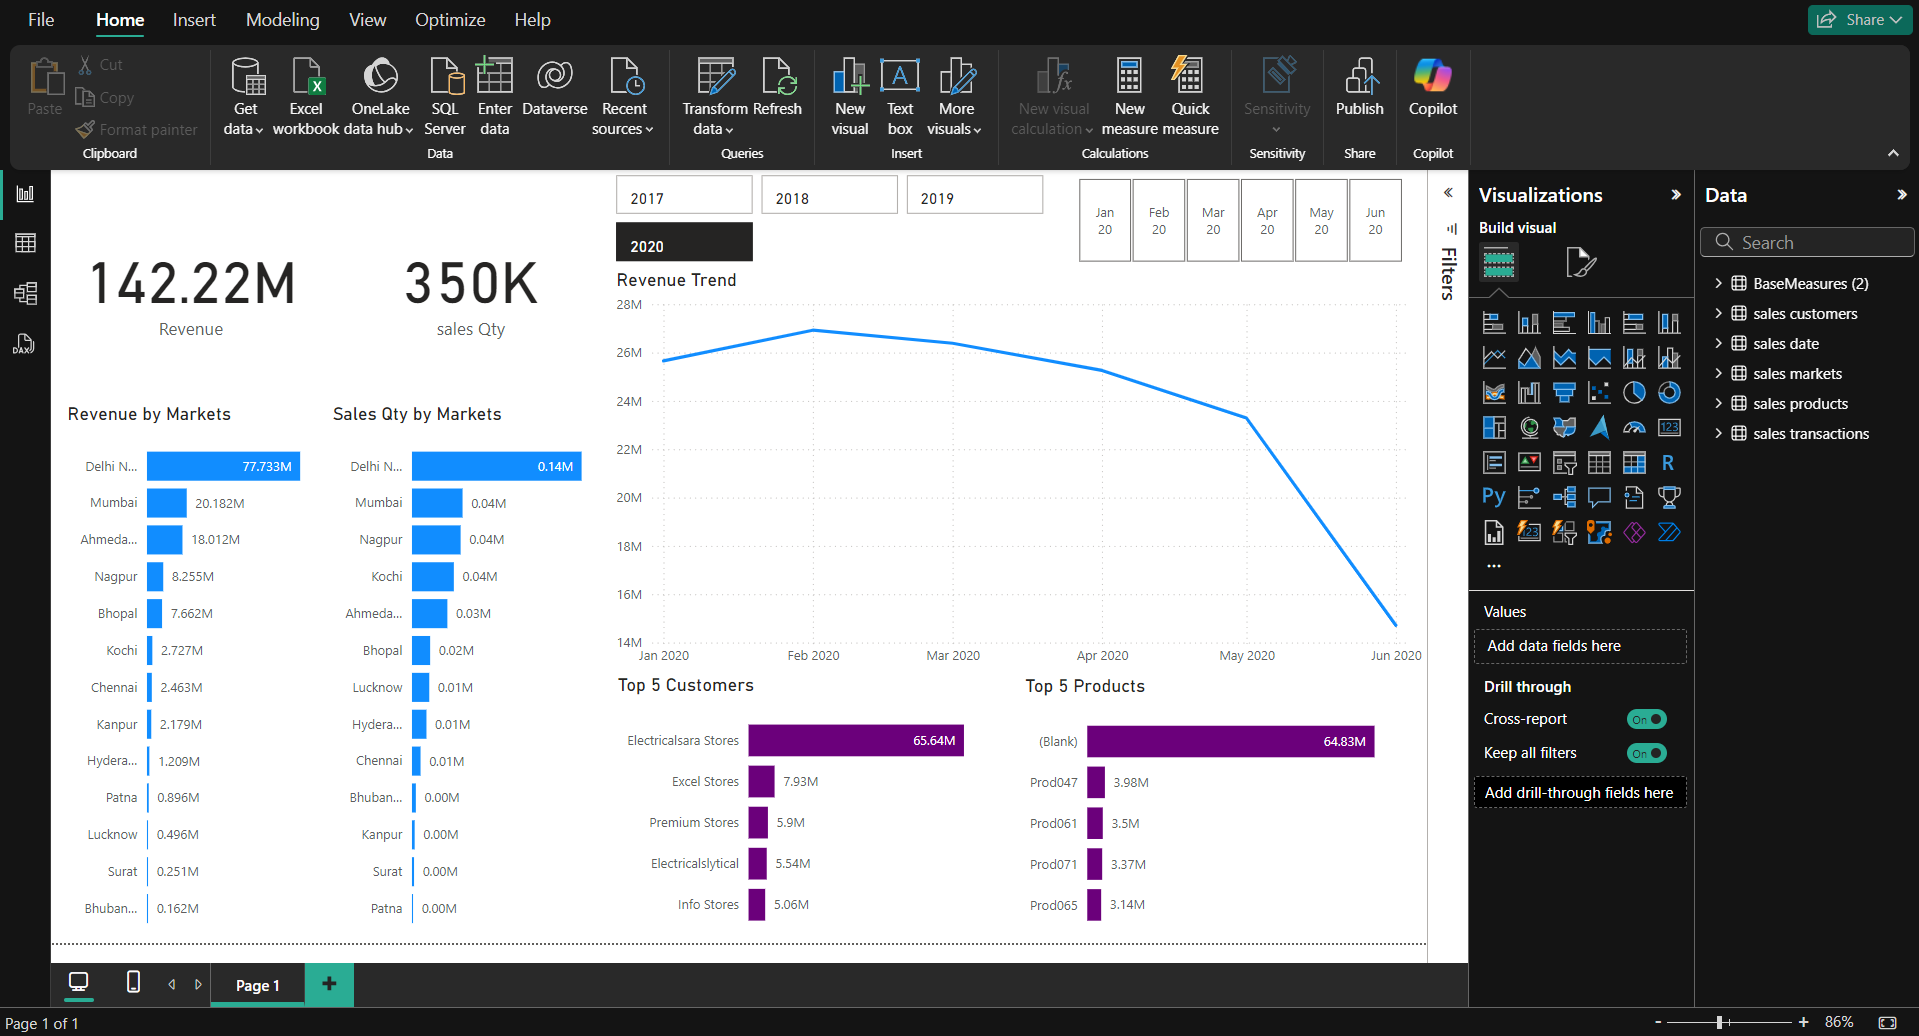

What the dashboard file says about the page in this screenshot:
{"tool":"powerbi","page":{"name":"Page 1","canvas":[1280,720],"ordinal":0},"visuals":[{"type":"card","fields":{"Values":["BaseMeasures (2).Revenue"]},"box":[0,0,260.8,217.1],"z":0},{"type":"card","fields":{"Values":["BaseMeasures (2).sales Qty"]},"box":[260.7,0,260.7,218.2],"z":1000},{"type":"barChart","title":"Revenue by Markets","fields":{"Y":["BaseMeasures (2).Revenue"],"Category":["sales markets.markets_name"]},"box":[11,216.8,264.8,503.6],"z":2000},{"type":"barChart","title":"Sales Qty by Markets","fields":{"Y":["BaseMeasures (2).sales Qty"],"Category":["sales markets.markets_name"]},"box":[256.6,216.8,264.8,503.6],"z":3000},{"type":"slicer","fields":{"Values":["sales date.cy_date"]},"box":[930.2,1.2,350,90.7],"z":4000},{"type":"lineChart","title":"Revenue Trend","fields":{"Y":["BaseMeasures (2).Revenue"],"Category":["sales date.cy_date.Variation.Date Hierarchy.Year","sales date.cy_date.Variation.Date Hierarchy.Quarter","sales date.cy_date.Variation.Date Hierarchy.Month","sales date.cy_date.Variation.Date Hierarchy.Day"]},"box":[520.9,91.9,759.3,377.9],"z":5000},{"type":"advancedSlicerVisual","fields":{"Values":["sales date.year"]},"box":[520.9,0,409.3,91.9],"z":6000},{"type":"barChart","title":"Top 5 Products","fields":{"Y":["BaseMeasures (2).Revenue"],"Category":["sales products.product_code"]},"box":[901.2,469.8,379.1,250],"z":7000},{"type":"barChart","title":"Top 5 Customers","fields":{"Y":["BaseMeasures (2).Revenue"],"Category":["sales customers.custmer_name"]},"box":[522.1,468.6,379.1,251.2],"z":8000}]}

Visuals, with their boxes on the page's 1280x720 design canvas (x1, y1, x2, y2). These are canvas units, not pixel positions in the 1919x1036 screenshot, which may show the page scaled, cropped or inside an application window:
card - BaseMeasures (2).Revenue: 0/0/261/217
card - BaseMeasures (2).sales Qty: 261/0/521/218
"Revenue by Markets" barChart: 11/217/276/720
"Sales Qty by Markets" barChart: 257/217/521/720
slicer - sales date.cy_date: 930/1/1280/92
"Revenue Trend" lineChart: 521/92/1280/470
advancedSlicerVisual - sales date.year: 521/0/930/92
"Top 5 Products" barChart: 901/470/1280/720
"Top 5 Customers" barChart: 522/469/901/720
